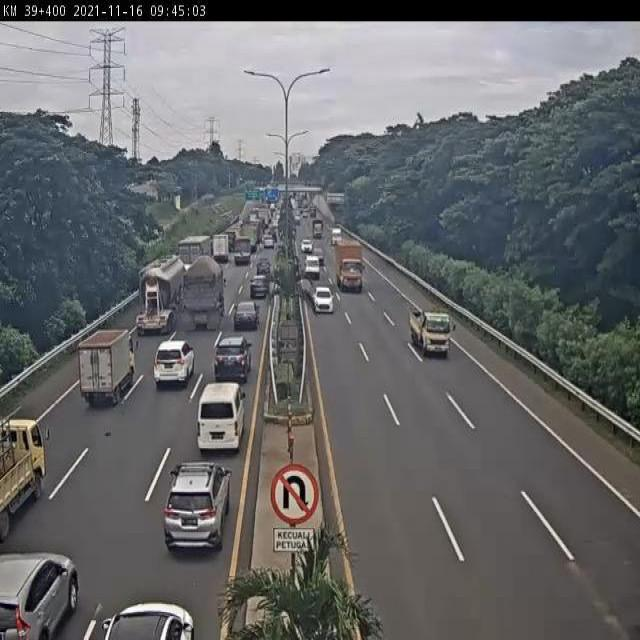car: (163, 463, 231, 556), (196, 385, 244, 455), (155, 339, 196, 388), (214, 339, 250, 388), (312, 282, 336, 314), (234, 301, 259, 331), (254, 256, 272, 281), (248, 279, 269, 300)
small truck: (79, 327, 136, 408), (409, 309, 451, 359)
truck-l-: (180, 258, 228, 334)
truck-m-: (171, 237, 211, 291), (334, 242, 364, 290)
truck-xl-: (137, 254, 189, 334)
